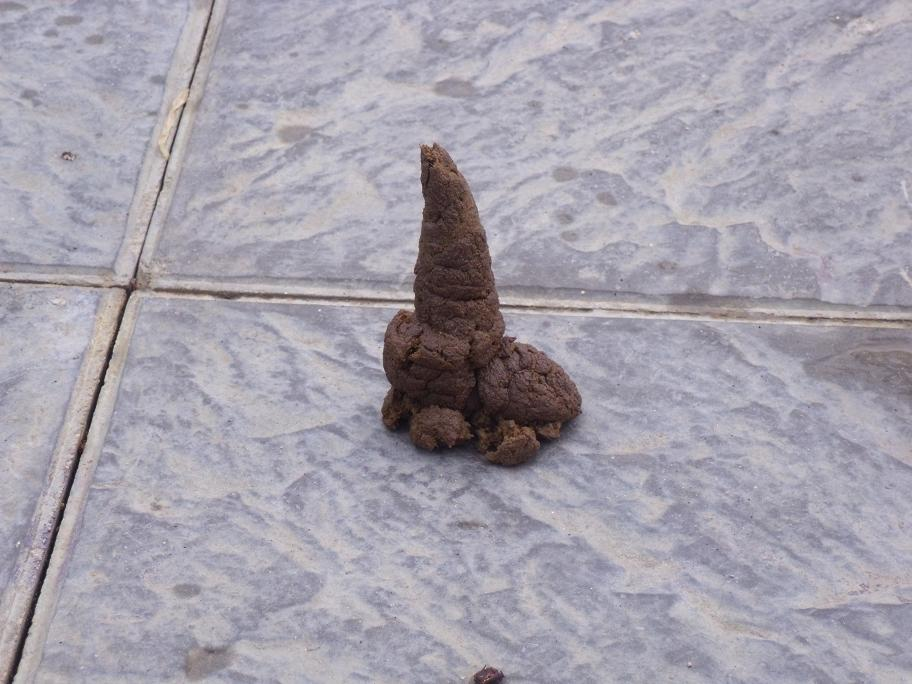Dog: (379, 128, 576, 434)
